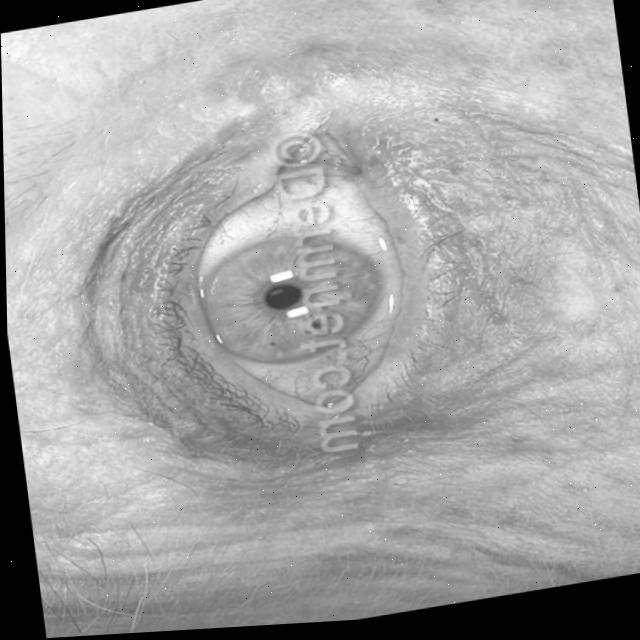Rosacea: (393, 93, 577, 427)
